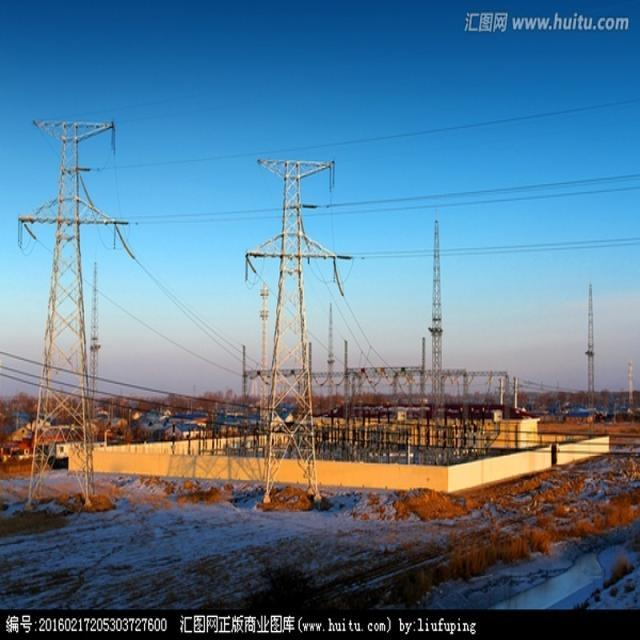non-critical vegetation: (8, 95, 129, 508), (248, 148, 336, 500)
